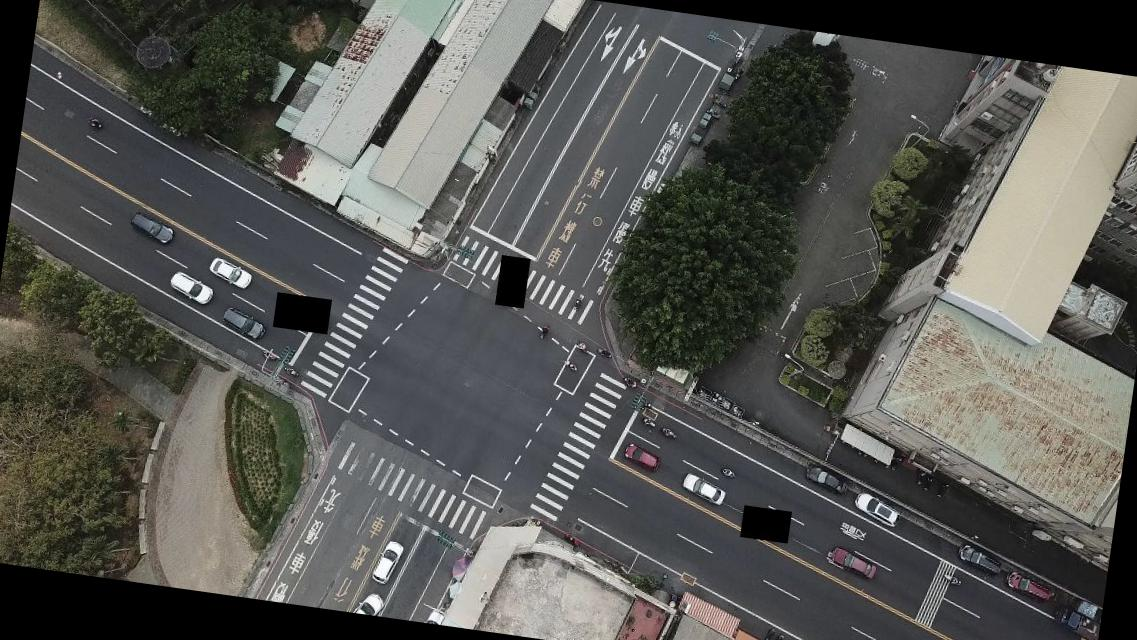vehicle: (165, 269, 216, 308), (218, 305, 268, 344), (852, 492, 903, 530), (826, 544, 879, 580), (368, 537, 406, 587), (954, 542, 1004, 578), (126, 211, 176, 246), (678, 472, 728, 507), (204, 256, 254, 290), (1004, 570, 1054, 604), (802, 462, 851, 496), (620, 443, 661, 472), (350, 590, 385, 617)
